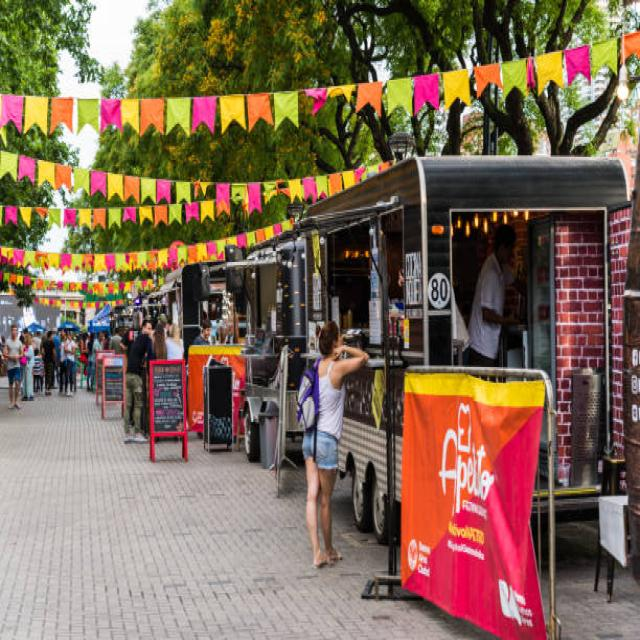Emperan: (289, 138, 636, 586)
